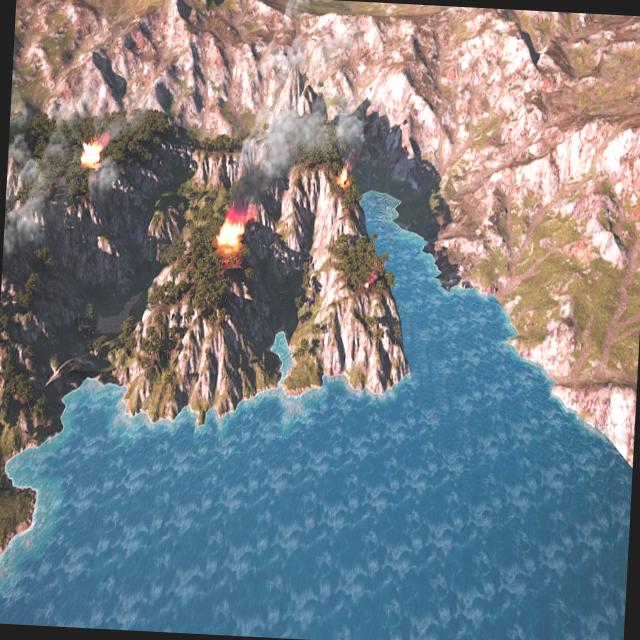fire: (216, 218, 245, 252), (334, 160, 354, 194), (81, 146, 102, 172)
smoke: (236, 100, 368, 196)
